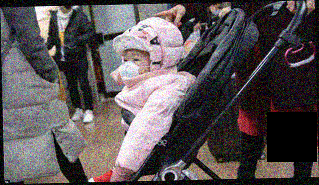with_mask: (119, 49, 150, 88)
